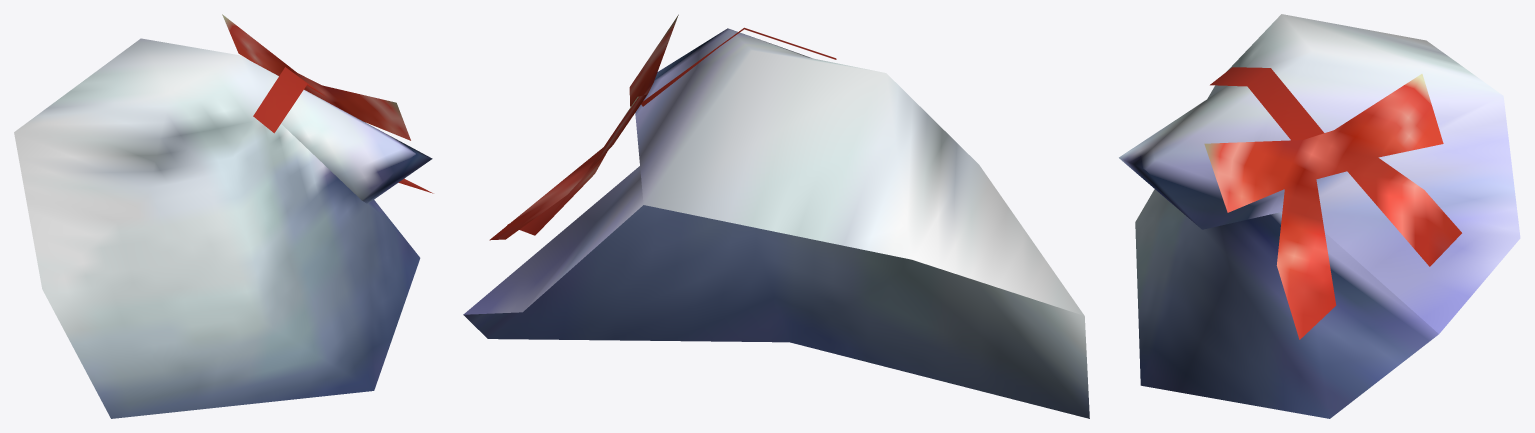
Rendered from fg_santasack_out.dae.
3 renders of one model, left to right at view 1: azimuth 30°, elevation 25°; view 2: azimuth 150°, elevation 25°; view 3: azimuth 270°, elevation 25°, orthographic. The views are drawn at different scales.
Parts seen in each view (by area): view 1: fg_santasack_out; view 2: fg_santasack_out; view 3: fg_santasack_out.
Part boxes in pixels (x1,y1,x2,y2): fg_santasack_out: (14, 14, 433, 418); fg_santasack_out: (463, 14, 1089, 418); fg_santasack_out: (1119, 14, 1520, 418).
Size of the model in its own units: 21.85 by 14.68 by 17.42.
Materials: 1 (1 with a texture image).
